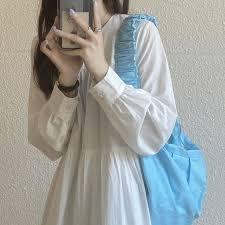dress: (31, 19, 167, 225)
